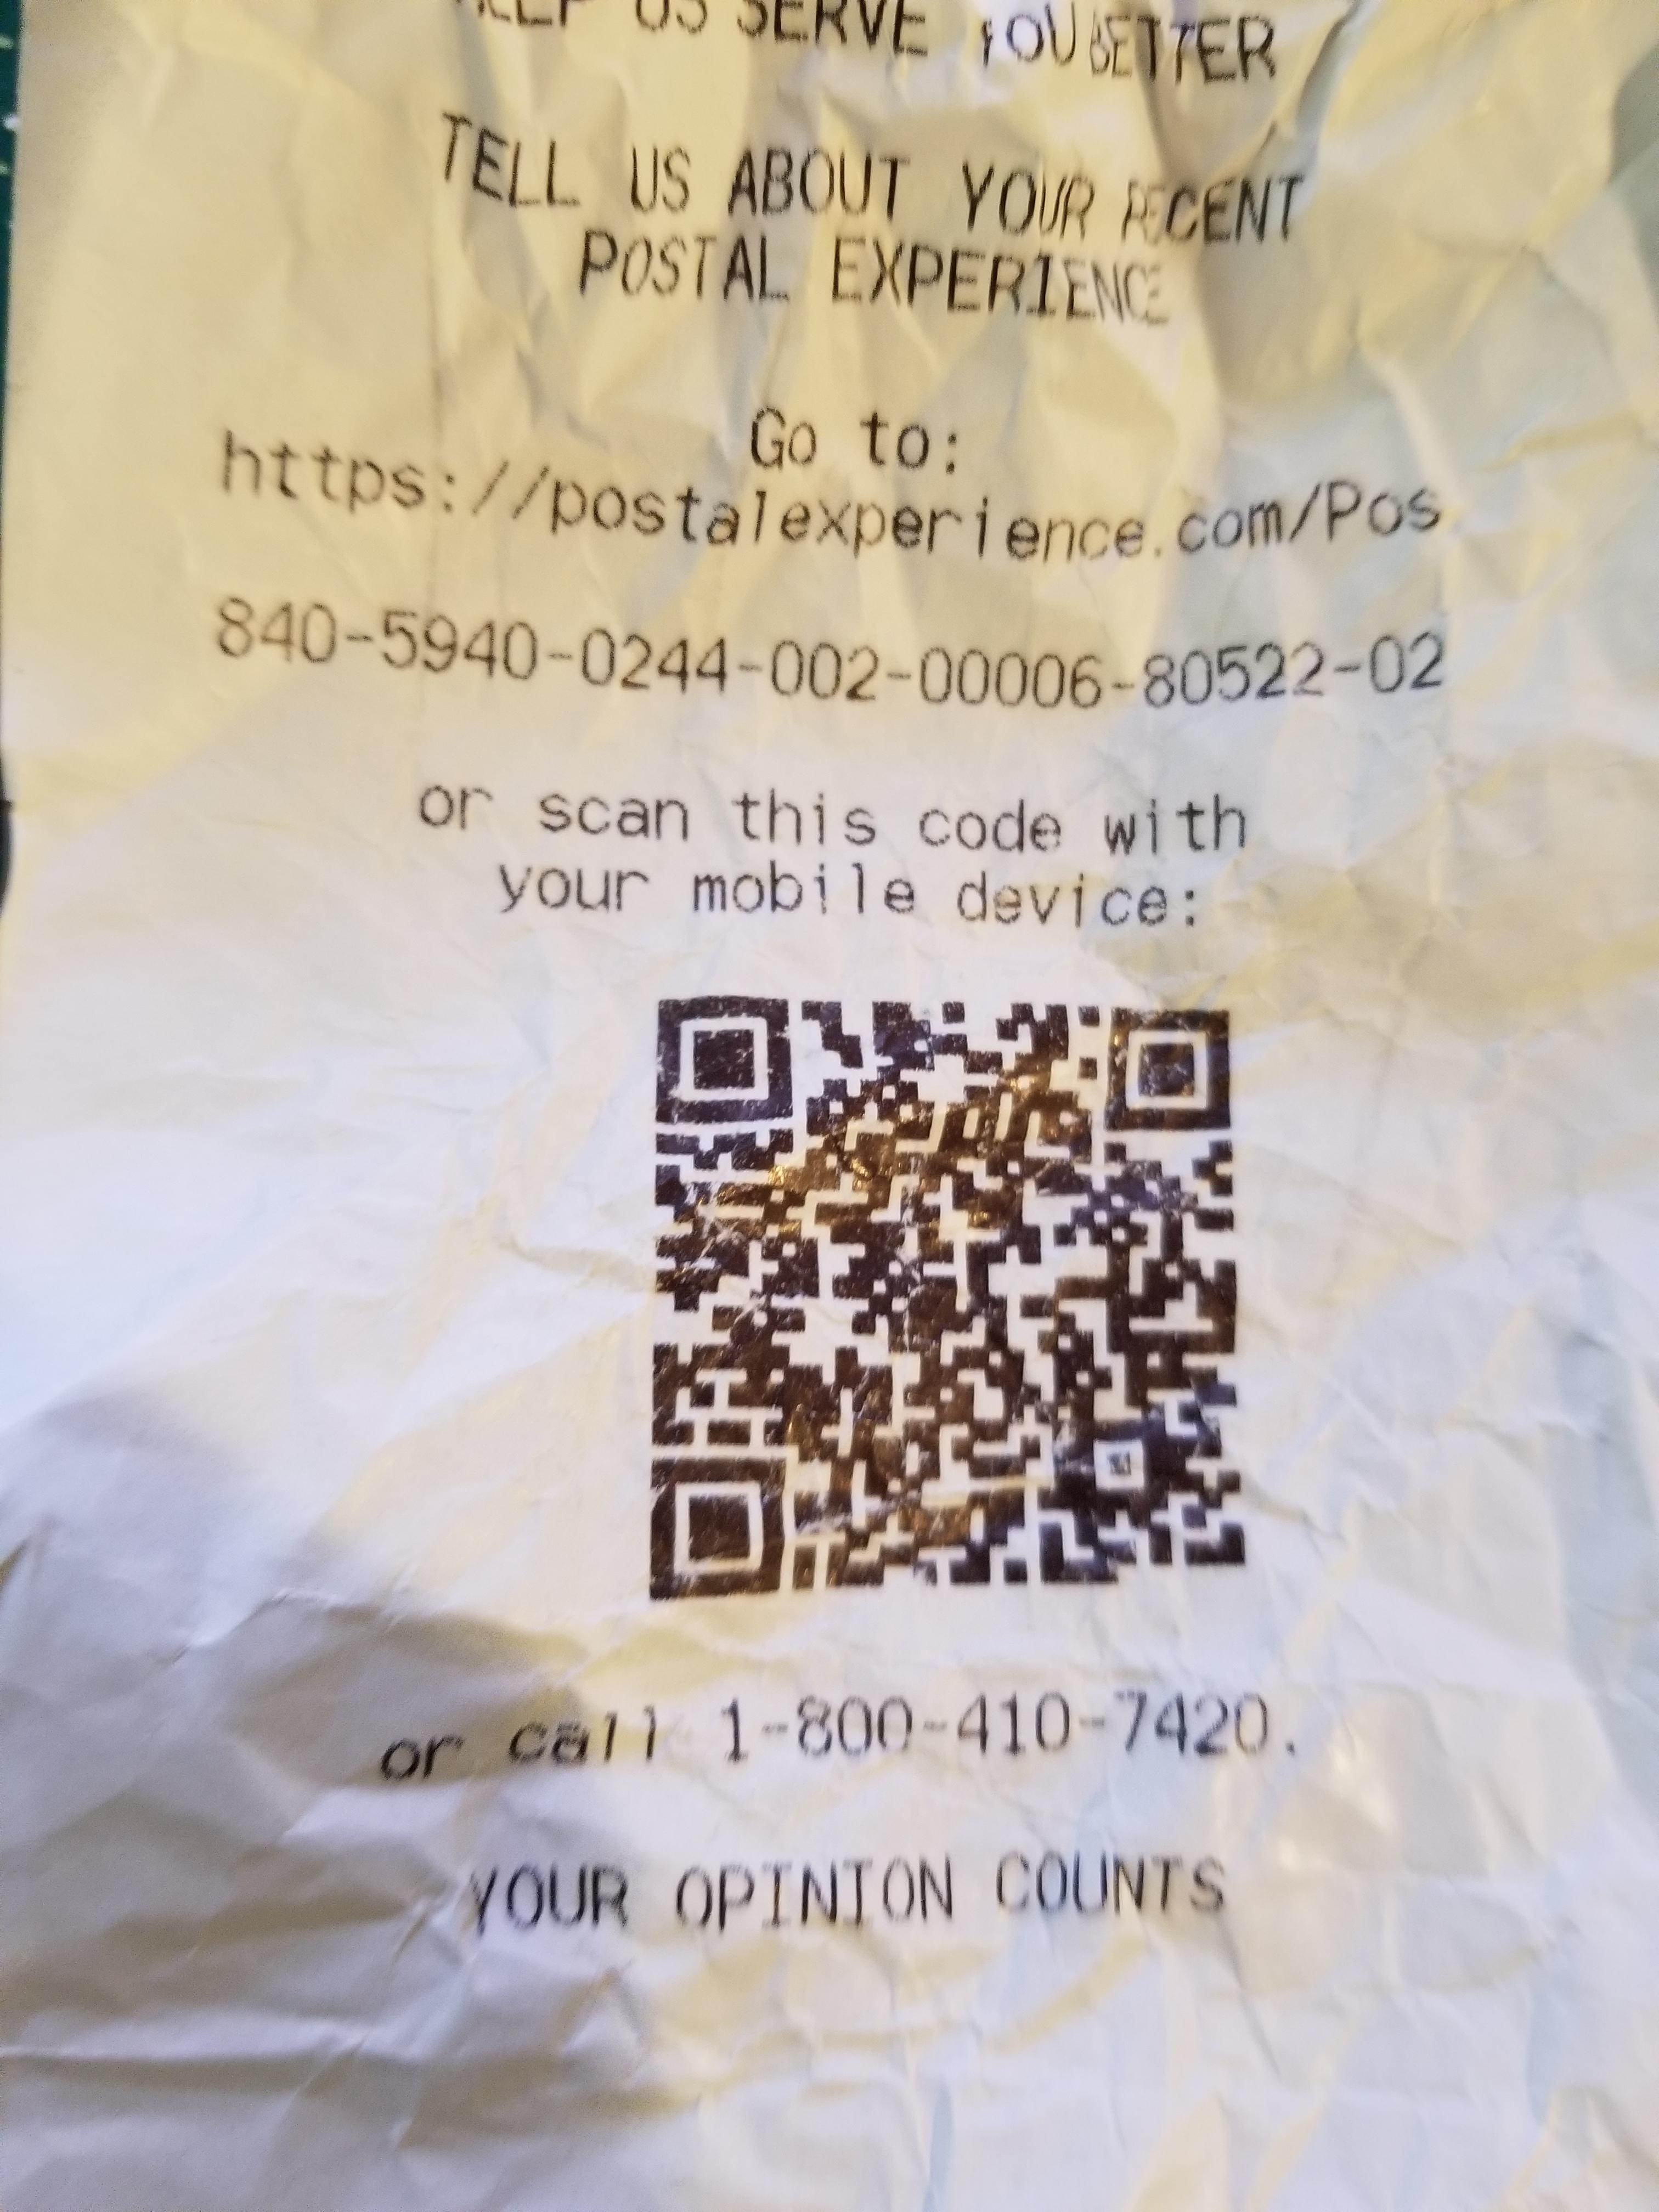QR_CODE: (610, 946, 1279, 1646)
